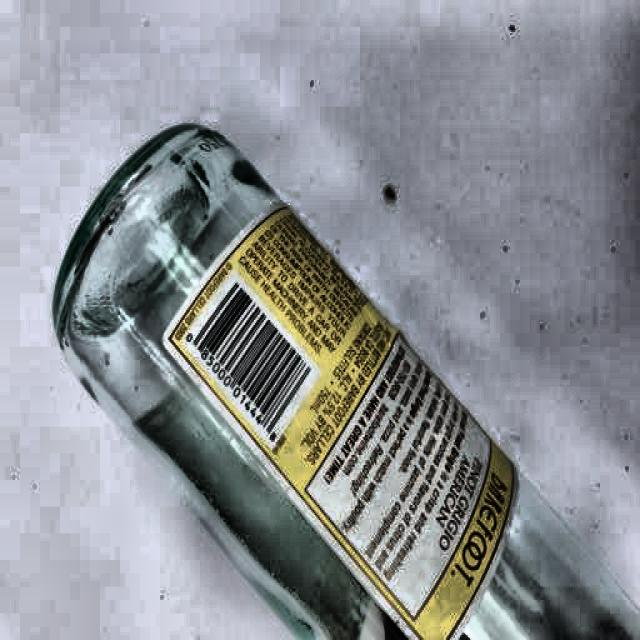glass: (46, 121, 626, 640)
